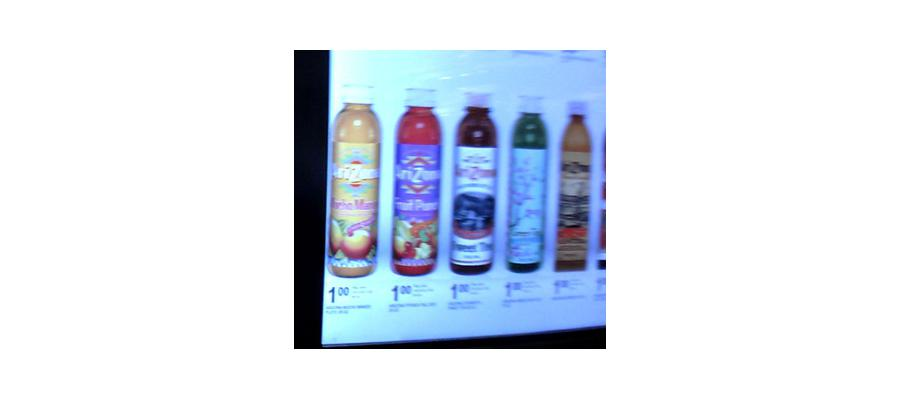bottle: (390, 91, 441, 276), (331, 89, 381, 276), (446, 98, 498, 276), (506, 89, 548, 277), (552, 100, 595, 271)
